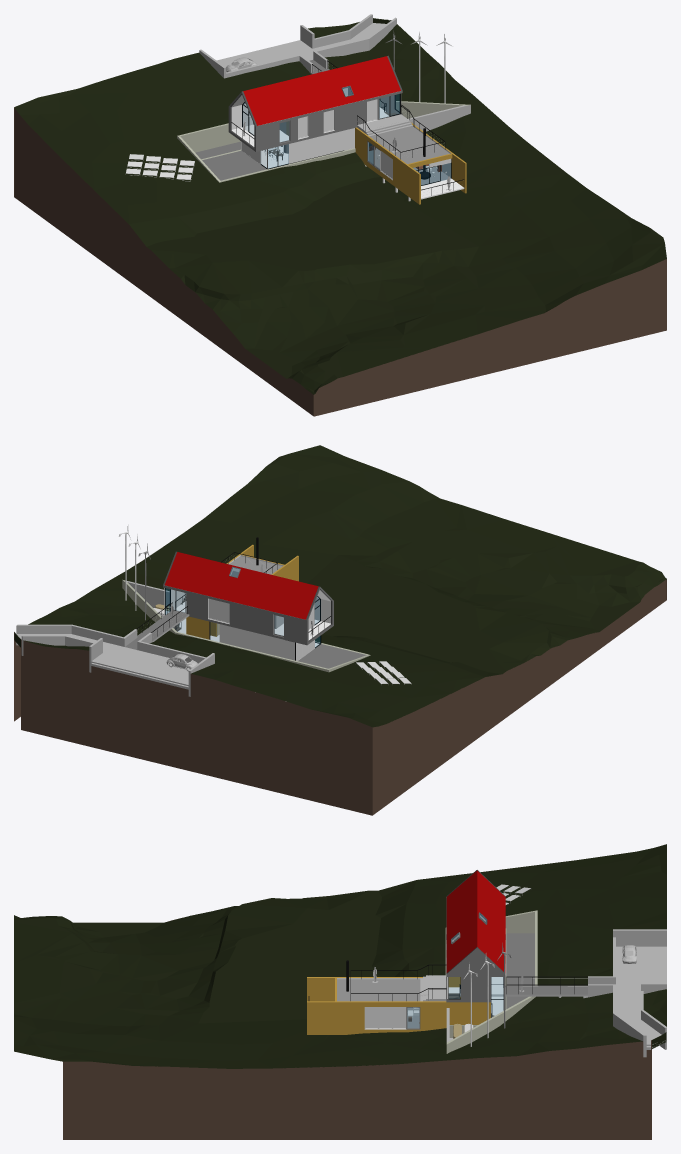
Rendered from SampleHouseForTrial.fbx.
The picture shows the model from 3 angles, top to bottom: view 1: azimuth 30°, elevation 25°; view 2: azimuth 150°, elevation 25°; view 3: azimuth 270°, elevation 25°; orthographic projection. The views are drawn at different scales.
Parts seen in each view (by area): view 1: Surface, SG Metal Panels roof, SIP 202mm Wall - conc clad, Wall - Timber Clad (×2), CL_W1 (×2), Warm Roof - Timber, 150mm Foundation Slab, Concrete-Domestic 425mm, Foundation - 300mm Concrete, Stair, Retaining - 300mm Concrete; view 2: Surface (×2), SG Metal Panels roof, SIP 202mm Wall - conc clad, 150mm Foundation Slab, Retaining - 300mm Concrete (×3), Concrete-Domestic 425mm, Insitu Concrete 225mm, Foundation - 300mm Concrete; view 3: Surface (×2), Wall - Timber Clad (×2), SG Metal Panels roof, 150mm Foundation Slab, Insitu Concrete 225mm (×2), Warm Roof - Timber, SIP 202mm Wall - conc clad, CL_W1 (×2), Retaining - 300mm Concrete (×2), Stair.
Part boxes in pixels (x1,y1,x2,y2): Surface: (14, 18, 666, 416); SG Metal Panels roof: (232, 56, 400, 125); SIP 202mm Wall - conc clad: (257, 91, 401, 151); Wall - Timber Clad (×2): (355, 102, 466, 204); CL_W1 (×2): (178, 101, 470, 152); Warm Roof - Timber: (370, 126, 449, 163); 150mm Foundation Slab: (216, 23, 385, 66); Concrete-Domestic 425mm: (202, 150, 266, 180); Foundation - 300mm Concrete: (408, 105, 467, 131); Stair: (357, 114, 412, 136); Retaining - 300mm Concrete: (313, 37, 371, 60); Surface (×2): (14, 445, 666, 815); SG Metal Panels roof: (164, 552, 330, 619); SIP 202mm Wall - conc clad: (164, 585, 305, 644); 150mm Foundation Slab: (16, 634, 189, 686); Retaining - 300mm Concrete (×3): (16, 624, 206, 663); Concrete-Domestic 425mm: (298, 644, 366, 668); Insitu Concrete 225mm: (125, 610, 189, 649); Foundation - 300mm Concrete: (126, 581, 169, 607); Surface (×2): (14, 844, 666, 1139); Wall - Timber Clad (×2): (307, 977, 490, 1034); SG Metal Panels roof: (446, 870, 505, 972); 150mm Foundation Slab: (616, 946, 666, 1045); Insitu Concrete 225mm (×2): (505, 933, 587, 1008); Warm Roof - Timber: (337, 979, 420, 1001); SIP 202mm Wall - conc clad: (446, 947, 505, 1002); CL_W1 (×2): (446, 910, 537, 1053); Retaining - 300mm Concrete (×2): (613, 929, 666, 1057); Stair: (420, 975, 446, 1001).
Bounding box in the file's own units: 165 × 231 × 62.86.
